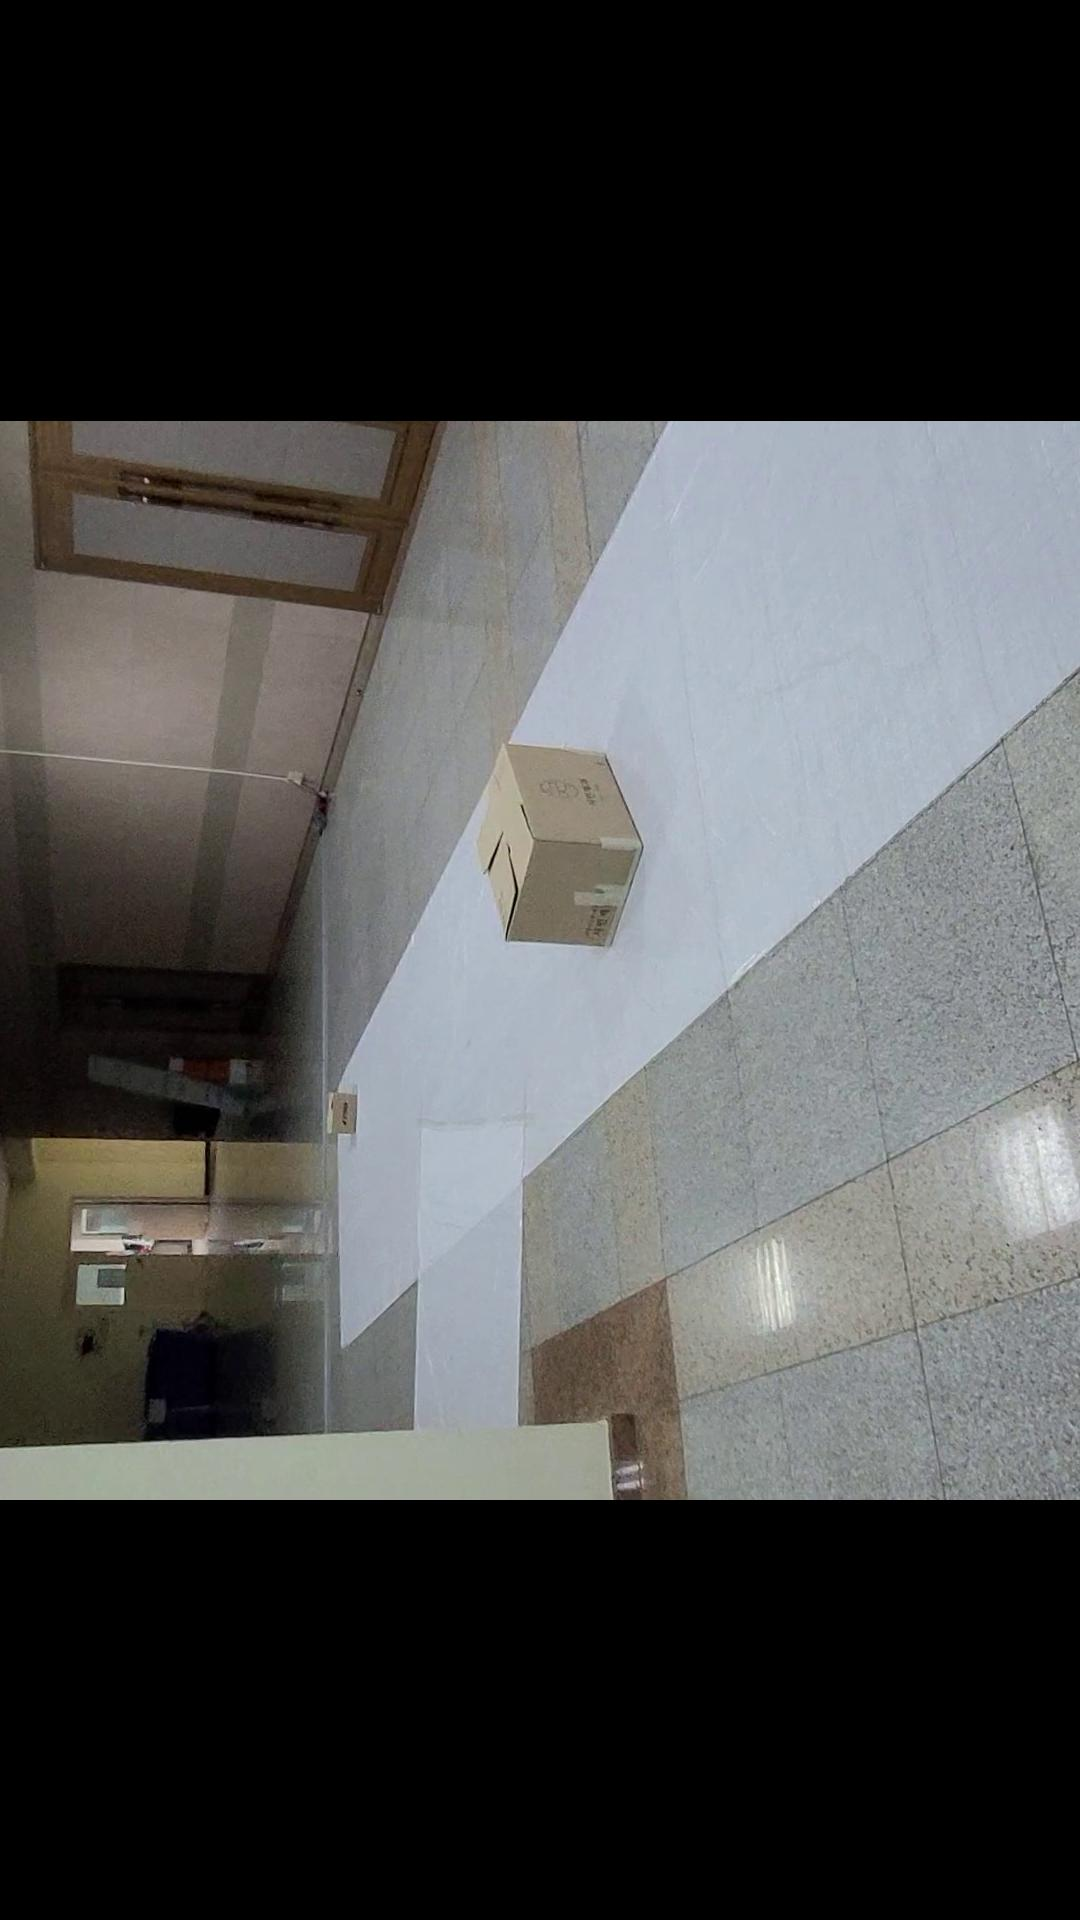Box: (455, 678, 700, 975), (276, 1077, 380, 1149)
